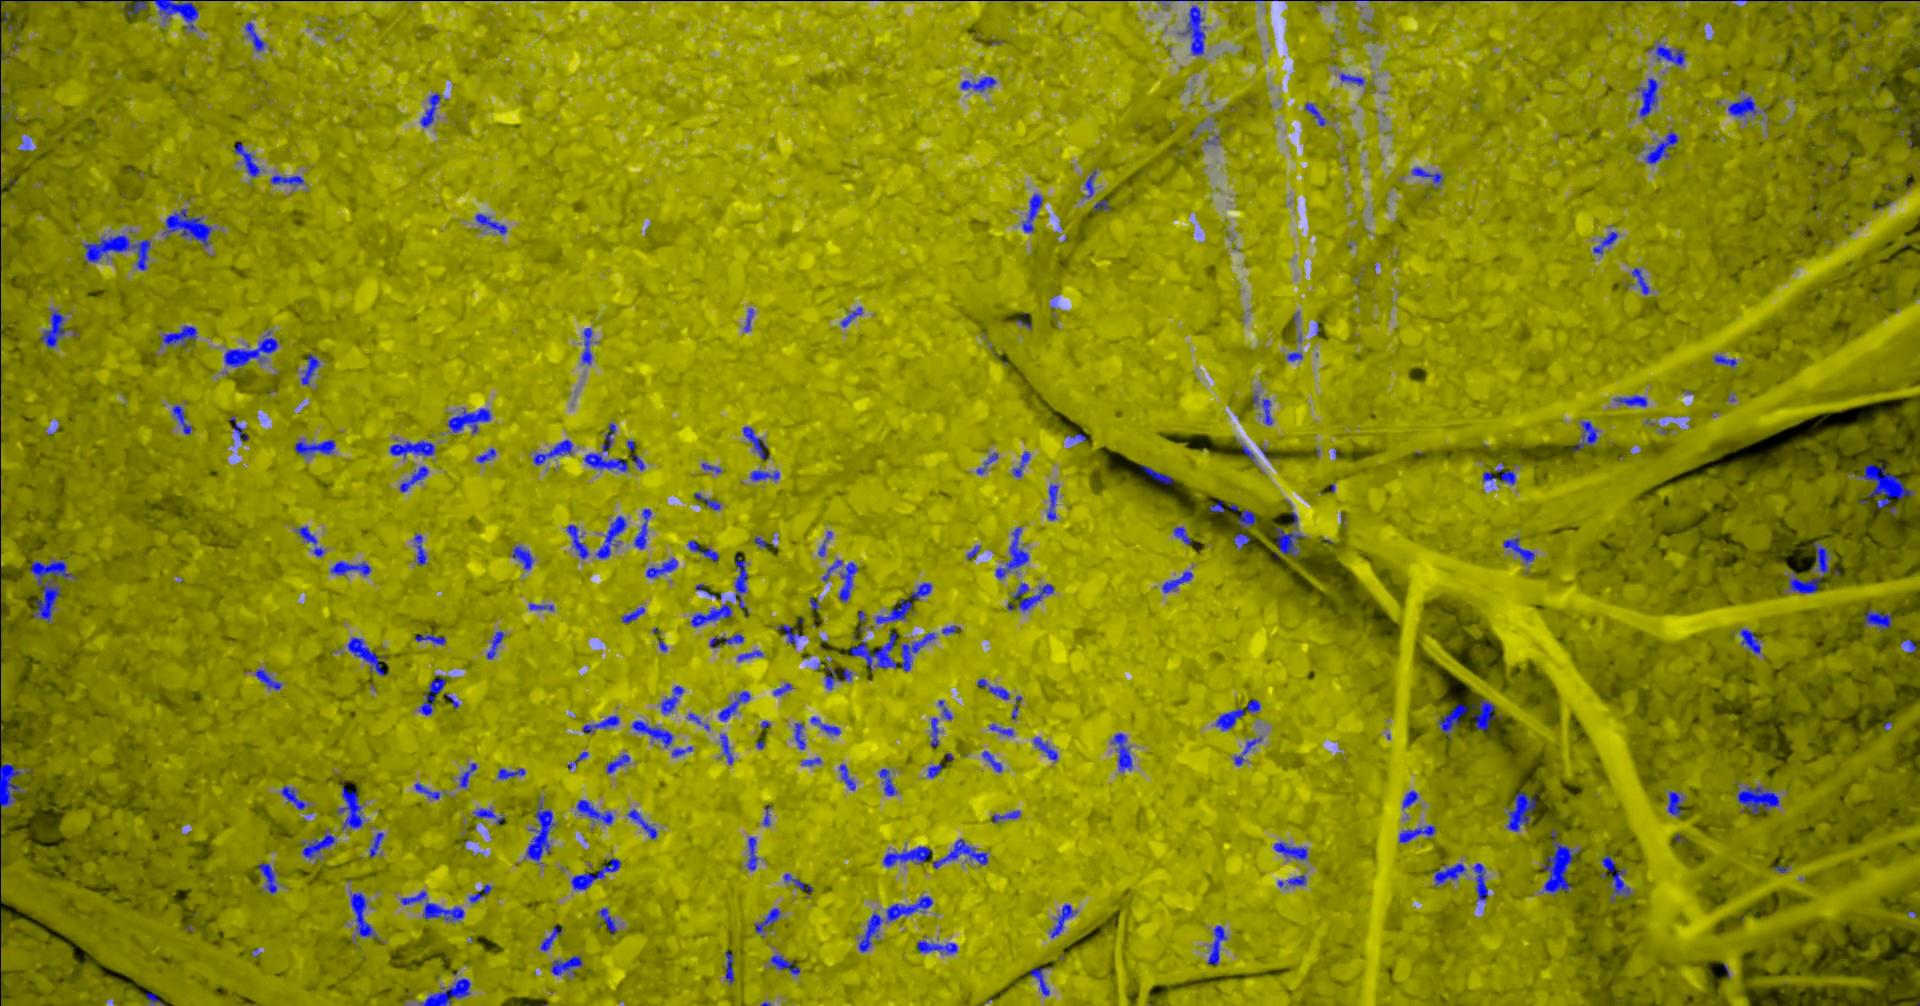ant: (858, 895, 932, 951), (0, 708, 22, 827), (1437, 699, 1501, 738), (83, 234, 150, 271), (1542, 829, 1580, 893), (875, 582, 931, 622), (1788, 540, 1830, 593), (400, 890, 463, 921), (223, 330, 277, 366), (524, 800, 555, 861), (163, 208, 211, 246), (996, 526, 1029, 578), (932, 838, 987, 868), (571, 857, 620, 890), (347, 636, 387, 674), (1214, 699, 1260, 730), (1599, 854, 1629, 901), (152, 0, 198, 30), (419, 978, 470, 1005), (1178, 5, 1205, 55), (596, 514, 626, 558), (1007, 582, 1054, 610), (350, 892, 377, 937), (1736, 785, 1779, 813), (1506, 791, 1537, 831), (337, 785, 363, 829), (447, 406, 490, 433), (1644, 130, 1677, 163), (631, 720, 672, 747), (883, 845, 930, 868), (418, 677, 444, 715), (717, 690, 750, 720), (232, 141, 260, 177), (41, 309, 65, 348), (577, 799, 613, 824), (1272, 527, 1303, 558), (295, 525, 324, 556), (1647, 41, 1685, 65), (533, 439, 571, 464), (742, 426, 768, 460), (733, 554, 748, 614), (690, 605, 731, 626), (1636, 77, 1658, 116), (583, 453, 629, 473), (301, 832, 335, 857), (1050, 903, 1076, 937), (627, 809, 657, 838), (1021, 193, 1043, 232), (1110, 732, 1131, 771), (1233, 735, 1261, 765), (1571, 420, 1597, 451), (389, 438, 434, 456), (1502, 537, 1534, 563), (838, 561, 858, 601), (399, 465, 428, 492), (632, 508, 651, 549), (1208, 925, 1227, 965), (754, 907, 780, 936), (686, 539, 717, 561), (419, 91, 439, 127), (163, 325, 196, 347), (566, 525, 588, 558), (1432, 862, 1465, 884), (1139, 464, 1173, 484), (1411, 166, 1443, 188), (1251, 392, 1272, 424), (281, 785, 309, 809), (977, 678, 1010, 699), (1727, 95, 1757, 117), (295, 439, 334, 456), (645, 558, 677, 578), (1161, 572, 1192, 592), (550, 955, 582, 976), (538, 925, 563, 951), (824, 666, 852, 688), (660, 685, 683, 713), (770, 953, 799, 974), (475, 213, 505, 234), (1032, 735, 1057, 761), (1228, 504, 1255, 527), (1272, 842, 1307, 860), (582, 715, 618, 732), (1398, 826, 1435, 842), (300, 353, 319, 385), (809, 716, 841, 735), (330, 560, 370, 575), (244, 22, 264, 51), (777, 624, 803, 647), (257, 862, 276, 893), (1863, 608, 1891, 629), (171, 405, 190, 434), (1592, 231, 1617, 254), (510, 545, 533, 569), (1738, 627, 1760, 653), (960, 76, 996, 91), (626, 439, 644, 470), (1473, 862, 1487, 901), (916, 940, 957, 953), (1030, 967, 1049, 995), (471, 808, 503, 824), (783, 873, 813, 890), (254, 669, 281, 688), (877, 768, 897, 795), (1304, 102, 1326, 124), (229, 415, 248, 441), (693, 492, 719, 511), (597, 907, 616, 932), (486, 630, 503, 659), (709, 633, 743, 647), (1630, 267, 1648, 293), (0, 0, 8, 60), (458, 762, 476, 788), (601, 422, 615, 453), (1012, 451, 1029, 478), (841, 306, 862, 326), (977, 452, 997, 474), (822, 559, 842, 580), (1496, 461, 1515, 484), (982, 749, 1001, 772), (606, 754, 629, 774), (745, 836, 758, 870), (719, 733, 733, 763), (414, 782, 439, 799), (839, 763, 855, 790), (469, 884, 491, 902), (1613, 395, 1647, 406), (0, 91, 6, 152), (368, 832, 383, 857), (270, 174, 303, 185), (621, 606, 644, 622), (1046, 483, 1057, 520), (1667, 790, 1681, 817), (749, 469, 778, 481), (414, 533, 425, 565), (688, 713, 709, 730), (568, 751, 588, 768), (724, 949, 734, 984), (817, 531, 830, 556), (792, 721, 805, 749), (1277, 874, 1305, 887), (126, 0, 149, 15), (1082, 170, 1095, 197), (582, 326, 590, 365), (1172, 526, 1191, 544), (1338, 72, 1364, 85), (497, 767, 524, 779), (414, 634, 444, 644), (989, 723, 1013, 735), (992, 810, 1018, 822), (1232, 532, 1250, 549), (1713, 354, 1736, 367), (1239, 445, 1255, 464), (476, 447, 495, 462), (937, 700, 952, 719), (1402, 790, 1417, 808), (930, 716, 938, 746), (737, 650, 762, 661), (145, 991, 163, 1005), (743, 307, 753, 332), (1011, 695, 1021, 719), (773, 682, 791, 695), (670, 746, 692, 756), (927, 763, 942, 777), (1208, 500, 1224, 512), (528, 602, 552, 610), (801, 757, 820, 766), (1092, 199, 1109, 210), (1286, 352, 1302, 361)
